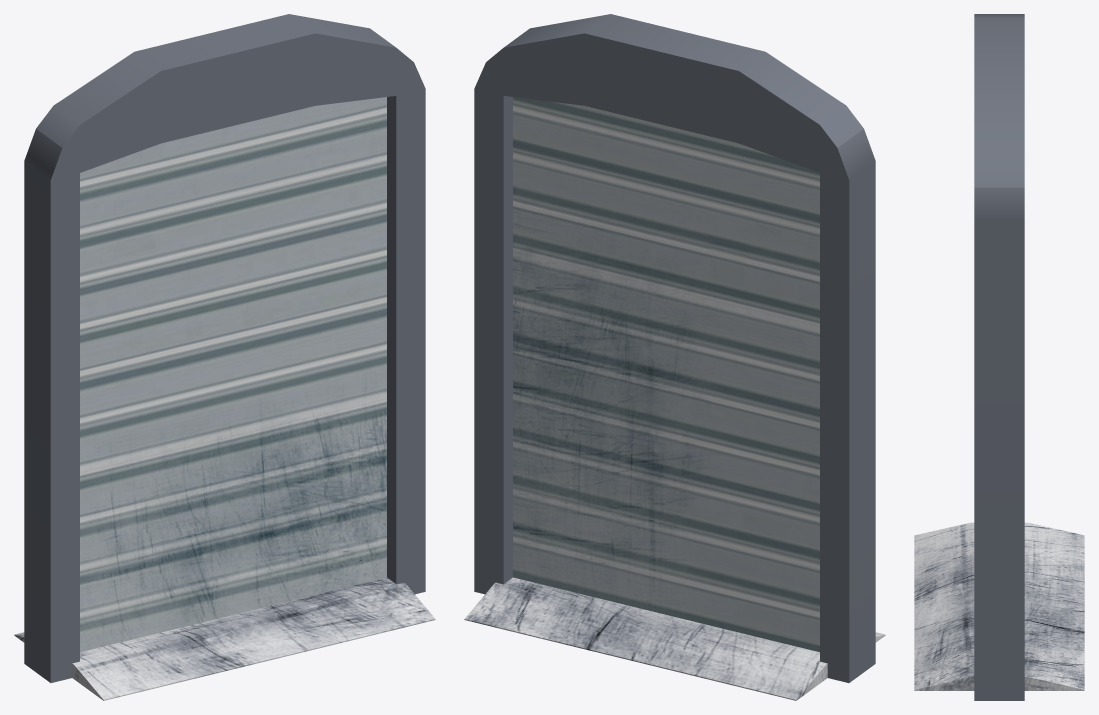
The model's file is autodoor.fbx.
The picture shows the model from 3 angles, left to right: view 1: azimuth 30°, elevation 25°; view 2: azimuth 150°, elevation 25°; view 3: azimuth 270°, elevation 25°; orthographic projection. The views are drawn at different scales.
Parts seen in each view (by area): view 1: autodoor2:pCube3, autodoor1:polySurface1; view 2: autodoor2:pCube3, autodoor1:polySurface1; view 3: autodoor1:polySurface1.
Part boxes in pixels (box(x1,y1,x2,y2)): autodoor2:pCube3: box(80, 97, 386, 652); autodoor1:polySurface1: box(14, 14, 435, 700); autodoor2:pCube3: box(513, 97, 819, 652); autodoor1:polySurface1: box(464, 14, 885, 700); autodoor1:polySurface1: box(914, 14, 1084, 700).
Size of the model in its own units: 242 by 362 by 100.
Materials: 1 (1 with a texture image).
